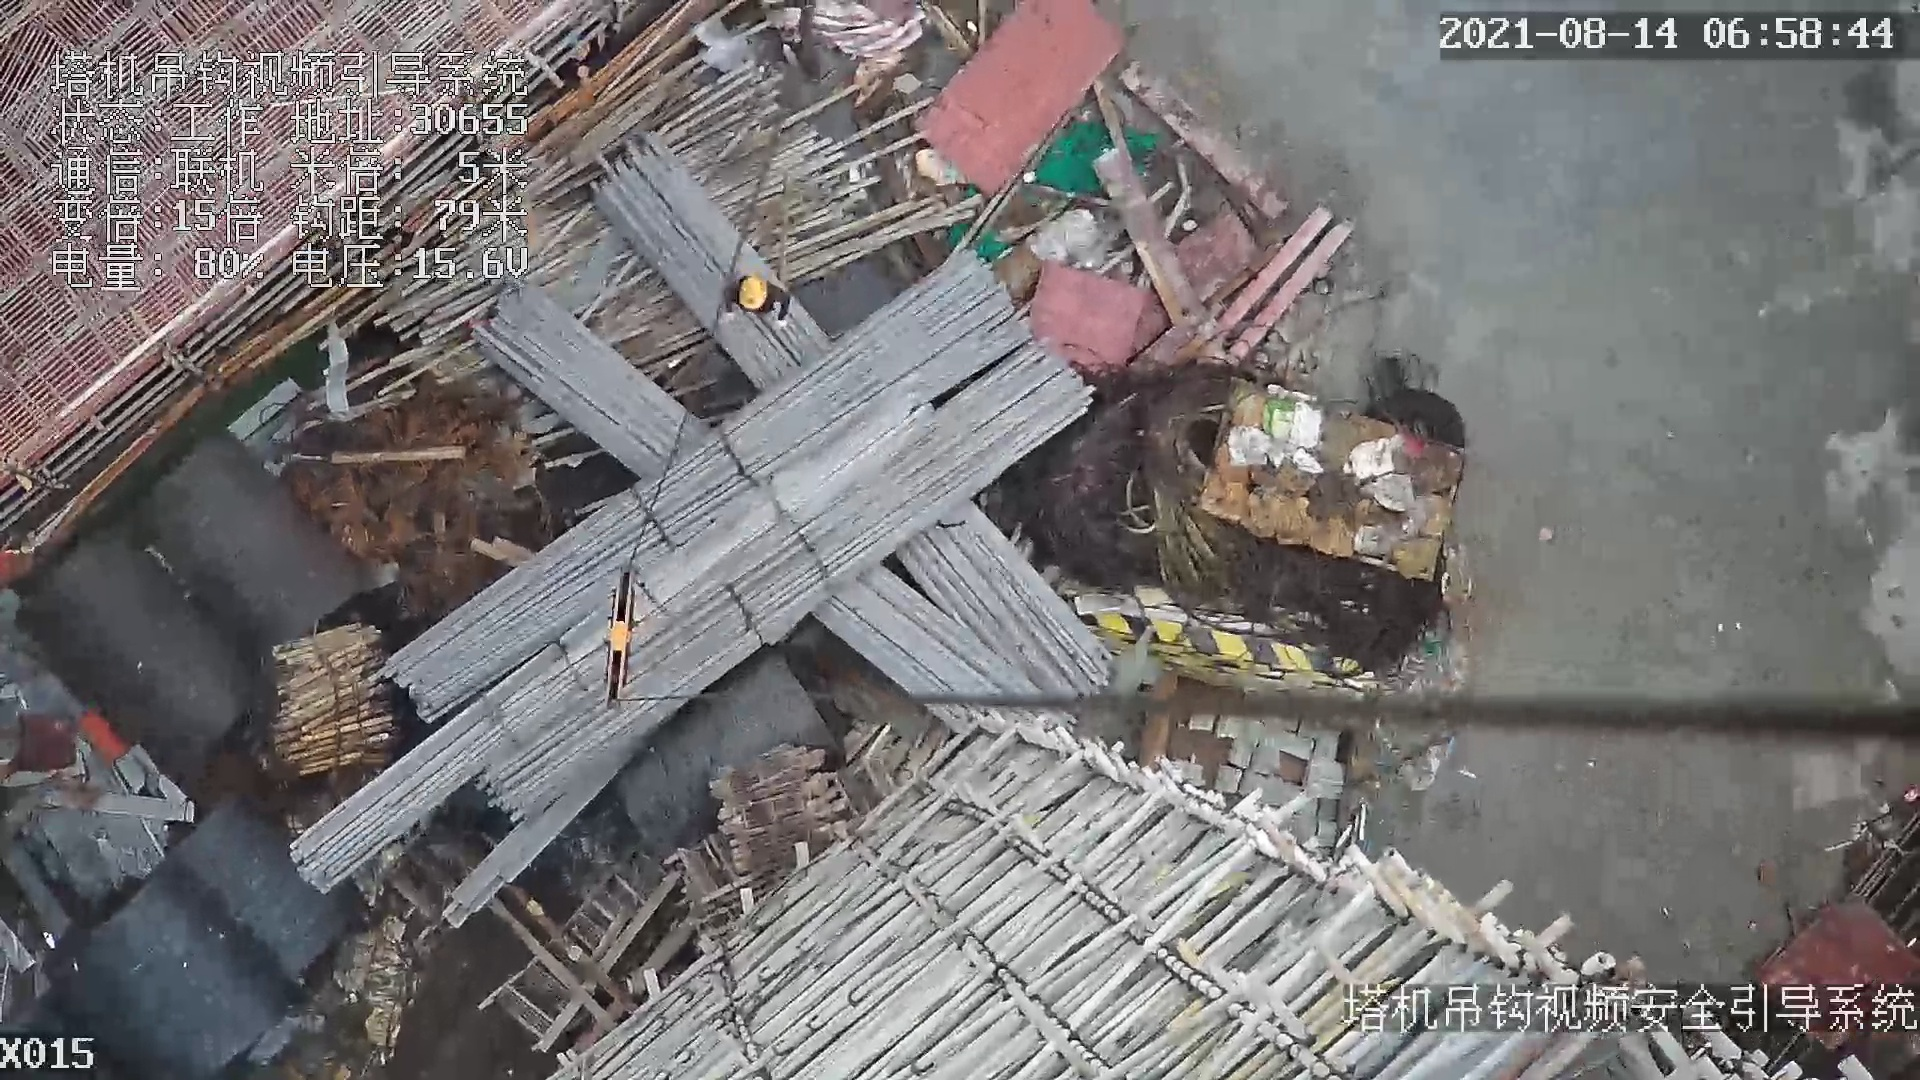helmet: (738, 277, 767, 309)
hook: (596, 568, 637, 710)
person: (712, 273, 794, 327)
rebar: (292, 389, 933, 893), (385, 250, 1025, 726), (594, 133, 1111, 695), (479, 351, 1096, 814), (471, 280, 1040, 734)
scaffold: (270, 623, 398, 777)
